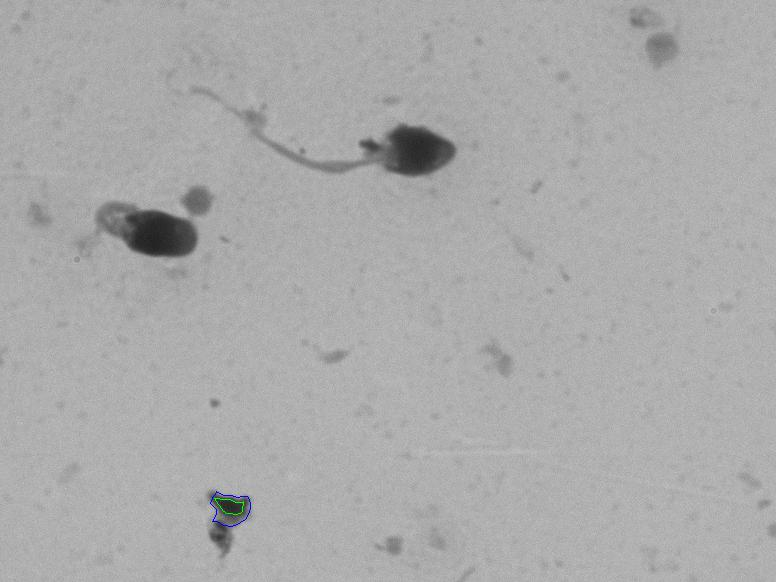Abnormal: (199, 59, 485, 210), (73, 159, 256, 295)
